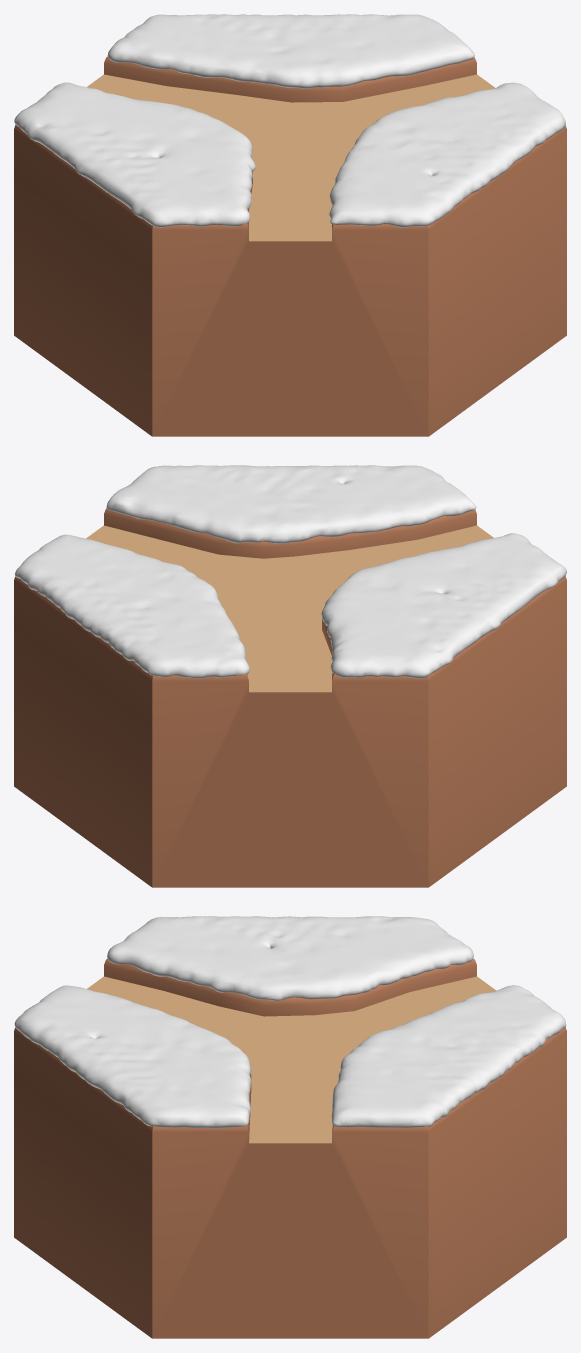
File: hex_rock_roadG.fbx
3 views of the same model, one above another, from view 1: azimuth 30°, elevation 25°; view 2: azimuth 150°, elevation 25°; view 3: azimuth 270°, elevation 25° (orthographic).
Parts seen in each view (by area): view 1: hex_rock_roadG.001, SnowBall.001, hex_rock_roadG; view 2: hex_rock_roadG.001, SnowBall.001, hex_rock_roadG; view 3: hex_rock_roadG.001, SnowBall.001, hex_rock_roadG.
Part boxes in pixels (box(x1,y1,x2,y2)): hex_rock_roadG.001: box(14, 56, 566, 436); SnowBall.001: box(14, 14, 565, 227); hex_rock_roadG: box(87, 74, 495, 241); hex_rock_roadG.001: box(14, 508, 566, 887); SnowBall.001: box(15, 465, 566, 678); hex_rock_roadG: box(86, 525, 493, 692); hex_rock_roadG.001: box(14, 958, 566, 1338); SnowBall.001: box(14, 916, 566, 1128); hex_rock_roadG: box(87, 976, 495, 1143).
Size of the model in its own units: 202 by 103 by 231.
